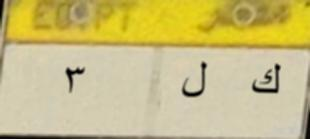3: (63, 65, 88, 99)
kaaf: (248, 62, 283, 101)
laam: (179, 58, 210, 103)
